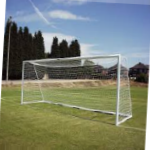goals: (20, 52, 135, 125)
